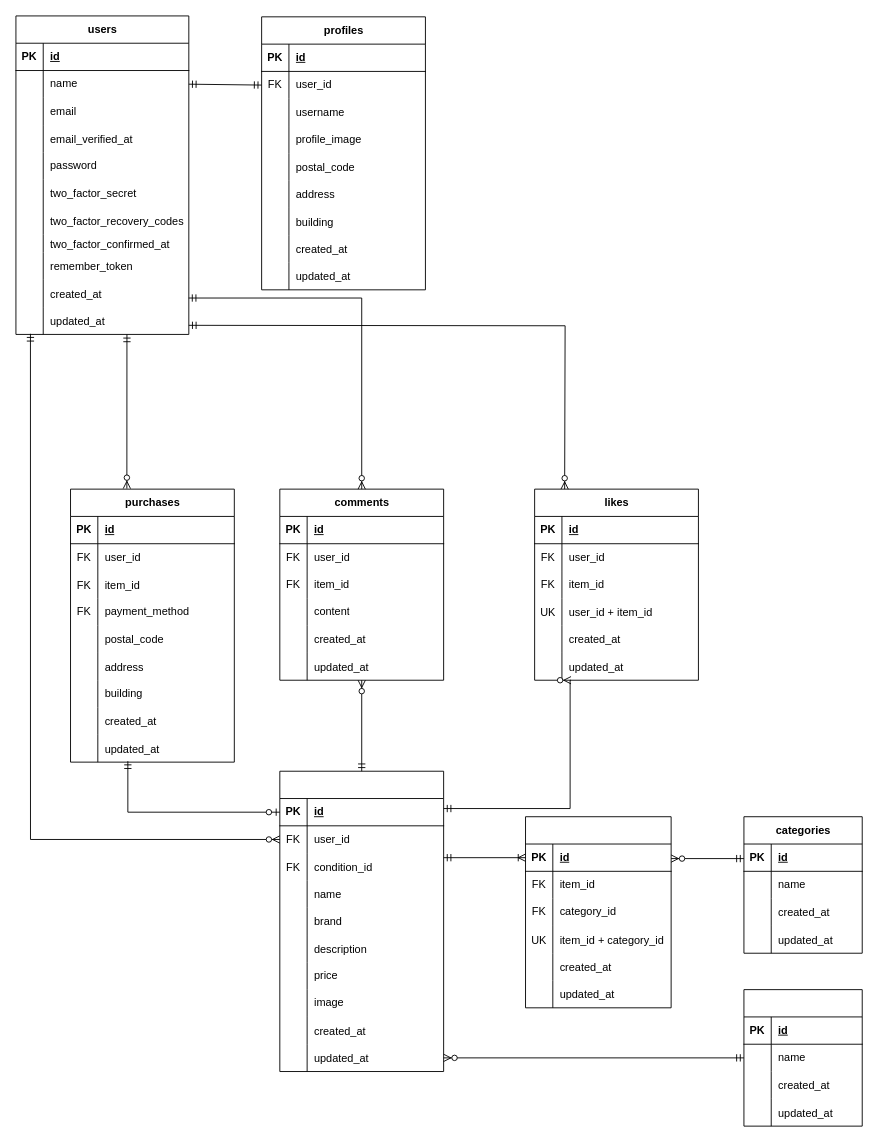
The diagram is 878 pixels wide and 1142 high, and some of its shapes have lost their labels. Here are the shapes that lost their labels. From the top down, the box of each, then its label:
(279, 770, 444, 1072): items
(525, 816, 671, 1008): category_item
(743, 989, 862, 1126): conditions
